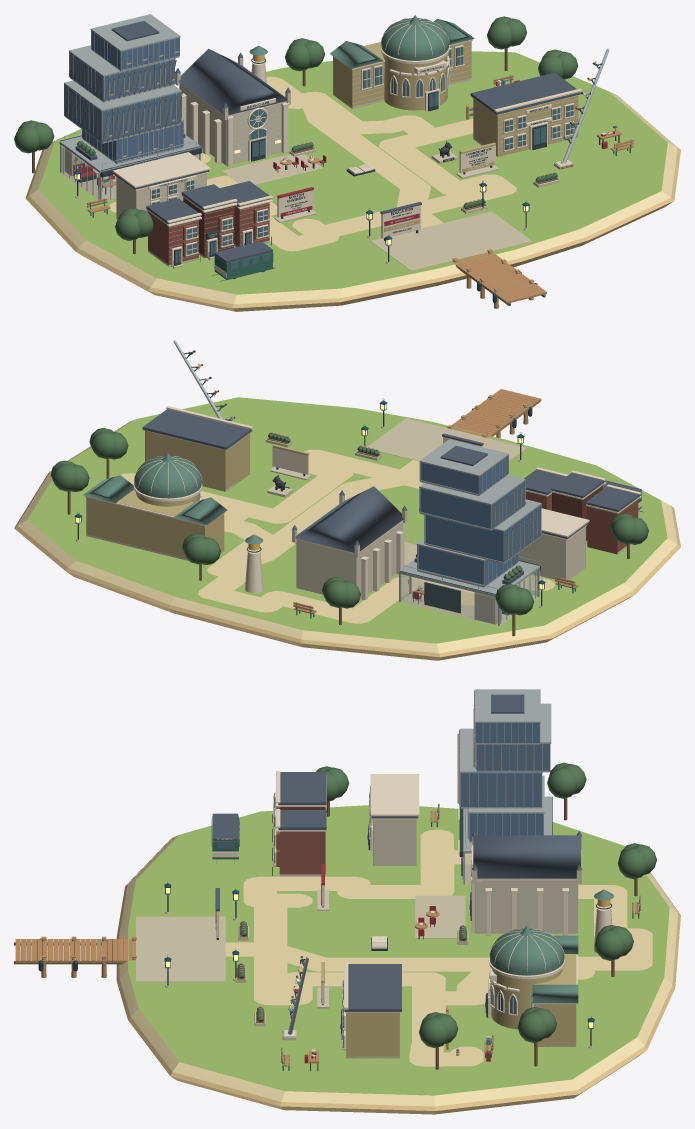
File: education.glb
3 renders of one model, top to bottom at view 1: azimuth 30°, elevation 25°; view 2: azimuth 150°, elevation 25°; view 3: azimuth 270°, elevation 25°, orthographic. The views are drawn at different scales.
Visible parts, largest first — view 1: static_grass, static_sand, district_learning_campus_paving, static_sandEdge, occluder_campus_hamerschlag_dome_campus_sandstone, occluder_campus_marsh_roof_campus_slate, occluder_campus_hamerschlag_dome_campus_copper, occluder_campus_duan_middle_campus_reflectionBlue, static_wood, occluder_campus_marsh_roof_campus_limestone, occluder_campus_marsh_roof_campus_trim, occluder_campus_hamburg_roof_campus_sandstone (+46 smaller); view 2: static_grass, static_sand, occluder_campus_hamerschlag_dome_campus_sandstone, static_sandEdge, occluder_campus_hamerschlag_dome_campus_copper, occluder_campus_marsh_roof_campus_slate, occluder_campus_marsh_roof_campus_limestone, district_learning_campus_paving, occluder_campus_duan_middle_campus_reflectionBlue, occluder_campus_hamburg_roof_campus_sandstone, occluder_campus_duan_ground_walls_campus_windowClear, static_wood (+31 smaller); view 3: static_grass, static_sand, district_learning_campus_paving, static_sandEdge, occluder_campus_marsh_roof_campus_limestone, occluder_campus_marsh_roof_campus_slate, occluder_campus_hamerschlag_dome_campus_copper, static_wood, occluder_campus_hamerschlag_dome_campus_sandstone, occluder_campus_duan_middle_campus_reflectionBlue, occluder_campus_hamburg_roof_campus_slate, occluder_campus_hamburg_roof_campus_sandstone (+25 smaller).
Boxes of the visible parts, box(x1,y1,x2,y2) form: static_grass: box(38, 51, 667, 294); static_sand: box(29, 76, 677, 304); district_learning_campus_paving: box(60, 154, 532, 270); static_sandEdge: box(25, 95, 680, 311); occluder_campus_hamerschlag_dome_campus_sandstone: box(333, 41, 471, 110); occluder_campus_marsh_roof_campus_slate: box(175, 48, 290, 115); occluder_campus_hamerschlag_dome_campus_copper: box(330, 15, 474, 68); occluder_campus_duan_middle_campus_reflectionBlue: box(64, 84, 181, 142); static_wood: box(87, 75, 634, 308); occluder_campus_marsh_roof_campus_limestone: box(175, 57, 290, 165); occluder_campus_marsh_roof_campus_trim: box(179, 82, 288, 166); occluder_campus_hamburg_roof_campus_sandstone: box(473, 96, 578, 156); static_grass: box(27, 397, 667, 643); static_sand: box(17, 419, 677, 653); occluder_campus_hamerschlag_dome_campus_sandstone: box(86, 489, 224, 564); static_sandEdge: box(14, 471, 680, 660); occluder_campus_hamerschlag_dome_campus_copper: box(83, 453, 227, 525); occluder_campus_marsh_roof_campus_slate: box(292, 486, 407, 552); occluder_campus_marsh_roof_campus_limestone: box(292, 495, 407, 600); district_learning_campus_paving: box(366, 418, 538, 626); occluder_campus_duan_middle_campus_reflectionBlue: box(425, 505, 540, 562); occluder_campus_hamburg_roof_campus_sandstone: box(145, 431, 249, 491); occluder_campus_duan_ground_walls_campus_windowClear: box(399, 570, 539, 625); static_wood: box(293, 389, 578, 614); static_grass: box(128, 805, 669, 1095); static_sand: box(119, 829, 677, 1106); district_learning_campus_paving: box(136, 864, 471, 981); static_sandEdge: box(116, 838, 680, 1114); occluder_campus_marsh_roof_campus_limestone: box(472, 836, 581, 933); occluder_campus_marsh_roof_campus_slate: box(472, 831, 582, 878); occluder_campus_hamerschlag_dome_campus_copper: box(490, 925, 578, 1003); static_wood: box(15, 803, 640, 1066); occluder_campus_hamerschlag_dome_campus_sandstone: box(491, 954, 576, 1046); occluder_campus_duan_middle_campus_reflectionBlue: box(460, 773, 541, 806); occluder_campus_hamburg_roof_campus_slate: box(344, 964, 401, 1011); occluder_campus_hamburg_roof_campus_sandstone: box(346, 1012, 399, 1058).
Size of the model in its own units: 56 by 15.05 by 52.
